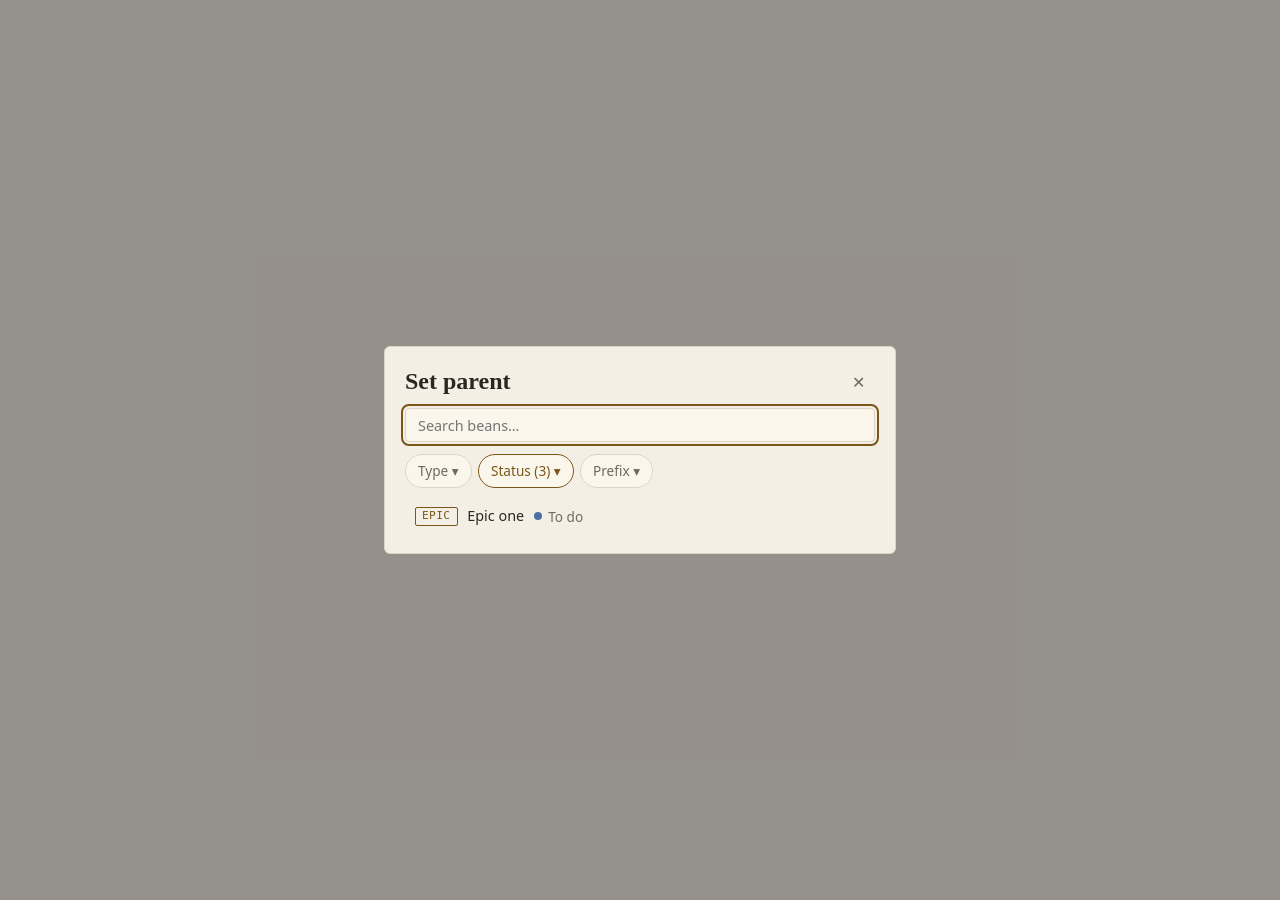
it: BeanPicker › filters candidates by search term
The width and height of the screenshot is (1280, 900).
Type "nope" into the search field labelled "Search beans".
click(640, 425); type("nope")  # box [405, 408, 875, 442]
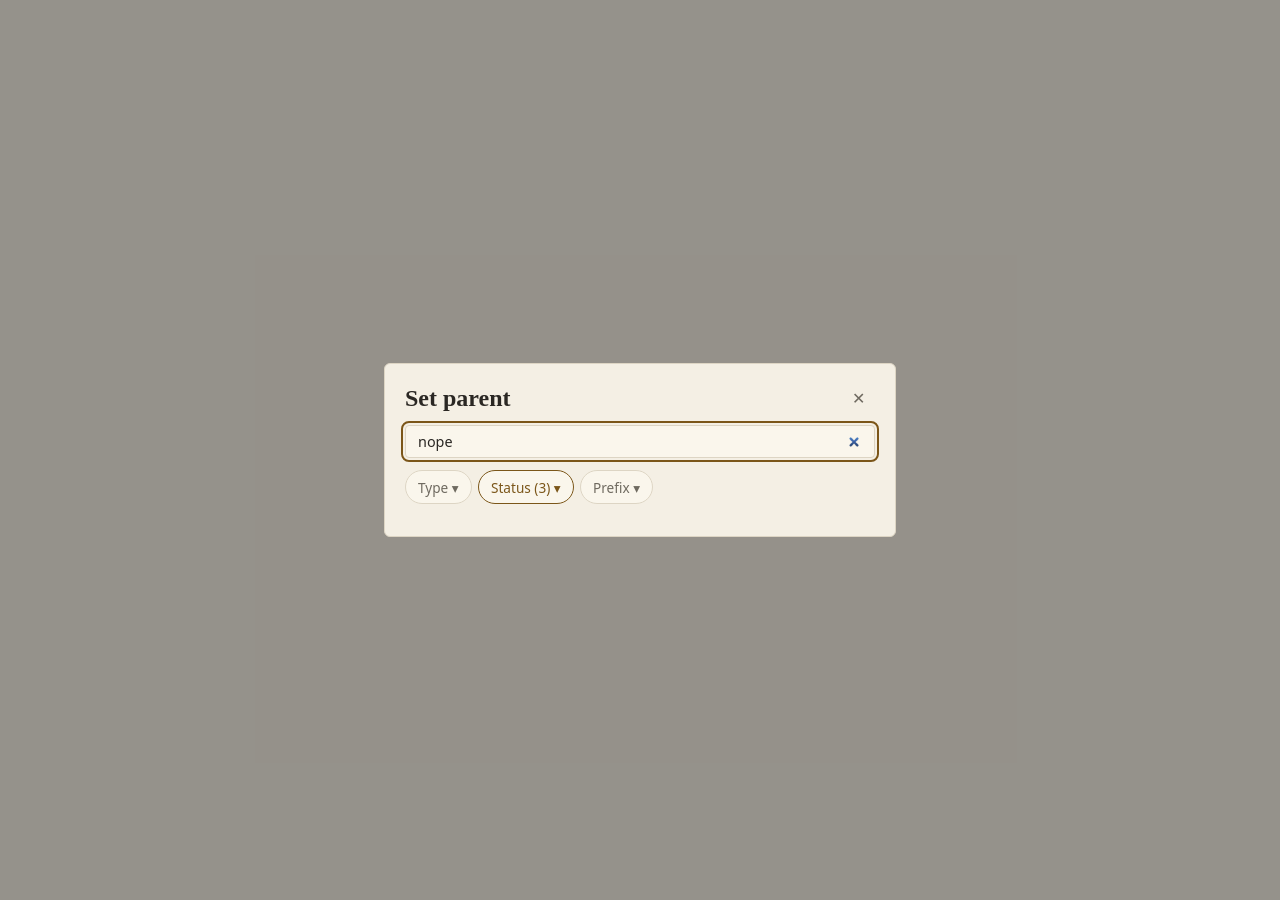
Expected: the button "Epic one" is gone
